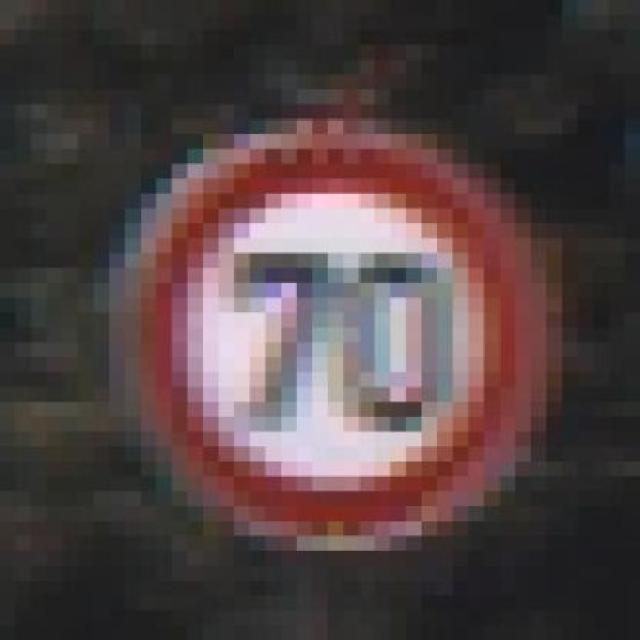forb_speed_over_70: (143, 136, 546, 542)
